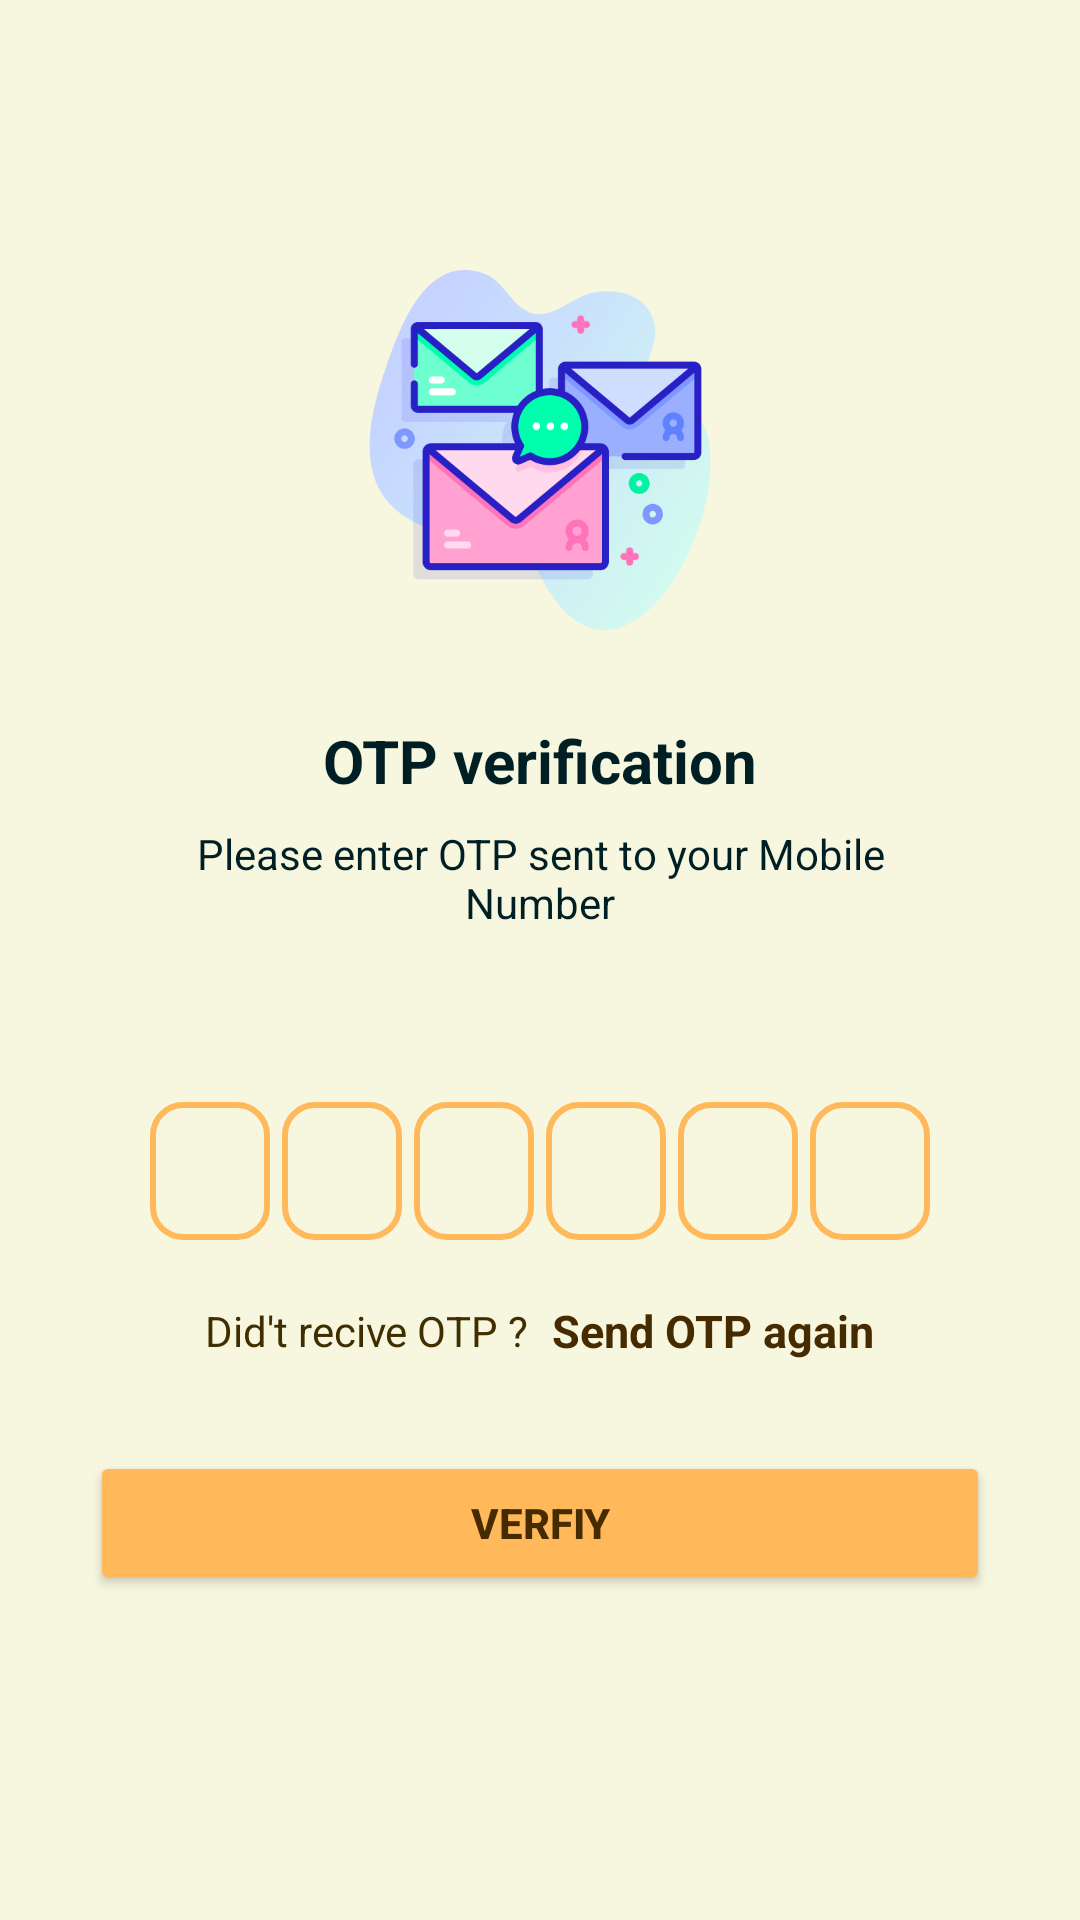

Icon bounding boxes for this 1080 × 1920 phone screenshot, format (x1, y1, x2, y2):
recived: (370, 270, 710, 630)
